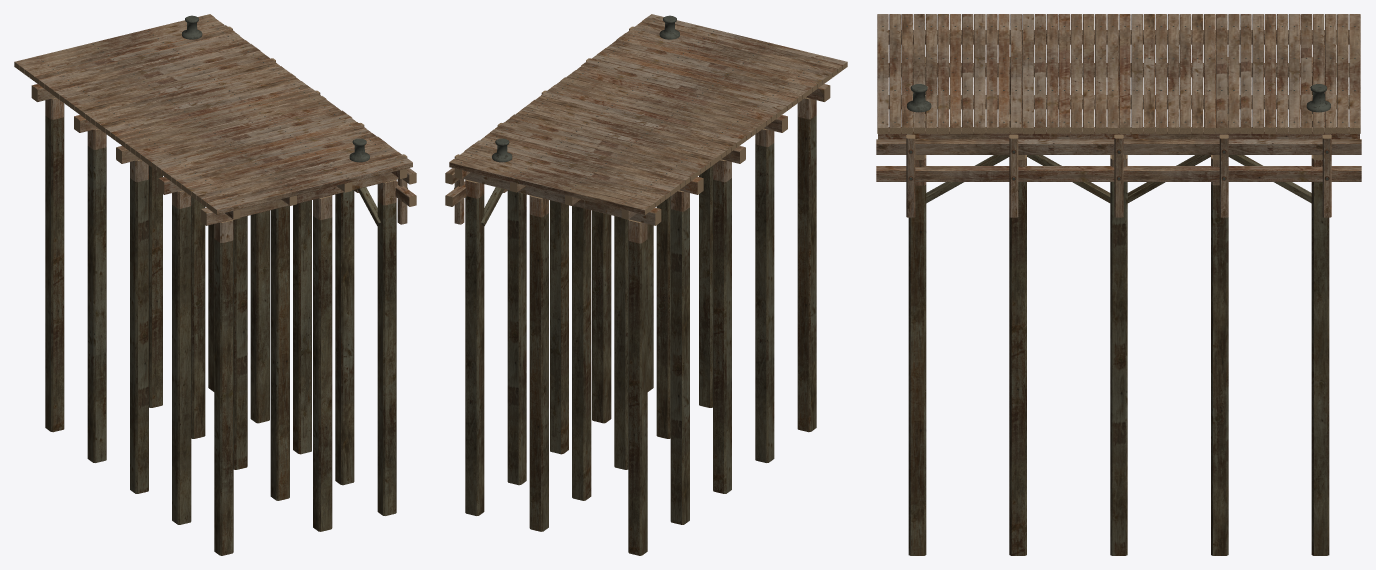
The model's file is HarbourFooting.gltf.
3 views of the same model, side by side, from view 1: azimuth 30°, elevation 25°; view 2: azimuth 150°, elevation 25°; view 3: azimuth 270°, elevation 25° (orthographic). The views are drawn at different scales.
Parts seen in each view (by area): view 1: HarbourFooting; view 2: HarbourFooting; view 3: HarbourFooting.
Boxes of the visible parts, box(x1,y1,x2,y2) form: HarbourFooting: box(14, 14, 416, 555); HarbourFooting: box(445, 14, 847, 555); HarbourFooting: box(876, 14, 1361, 555).
Bounding box in the file's own units: 5.14 × 9.06 × 8.86.
5 materials, 5 textured.
